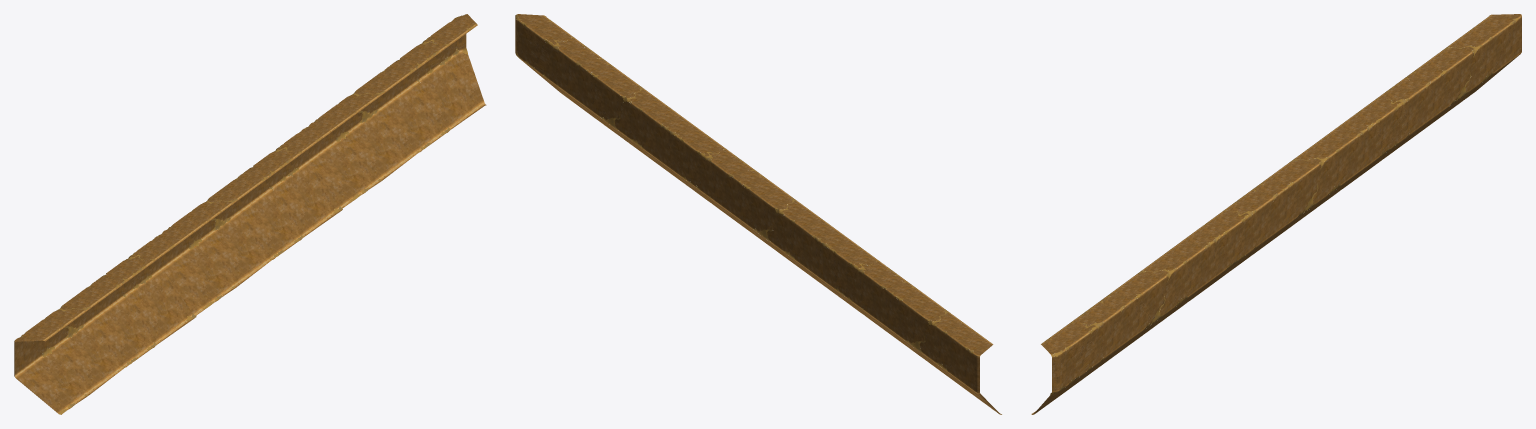
3 views of the same model, side by side, from view 1: azimuth 90°, elevation 25°; view 2: azimuth 150°, elevation 25°; view 3: azimuth 270°, elevation 25° (orthographic). The views are drawn at different scales.
Visible parts, largest first — view 1: SM_Nightmare_Crucible_Arena_BorderD_01v1_LOD0; view 2: SM_Nightmare_Crucible_Arena_BorderD_01v1_LOD0; view 3: SM_Nightmare_Crucible_Arena_BorderD_01v1_LOD0.
Part boxes in pixels (x1,y1,x2,y2): SM_Nightmare_Crucible_Arena_BorderD_01v1_LOD0: [14, 14, 486, 414]; SM_Nightmare_Crucible_Arena_BorderD_01v1_LOD0: [515, 14, 1001, 414]; SM_Nightmare_Crucible_Arena_BorderD_01v1_LOD0: [1031, 14, 1521, 414].
Size of the model in its own units: 121 by 12.76 by 73.6.
2 materials, 2 textured.
